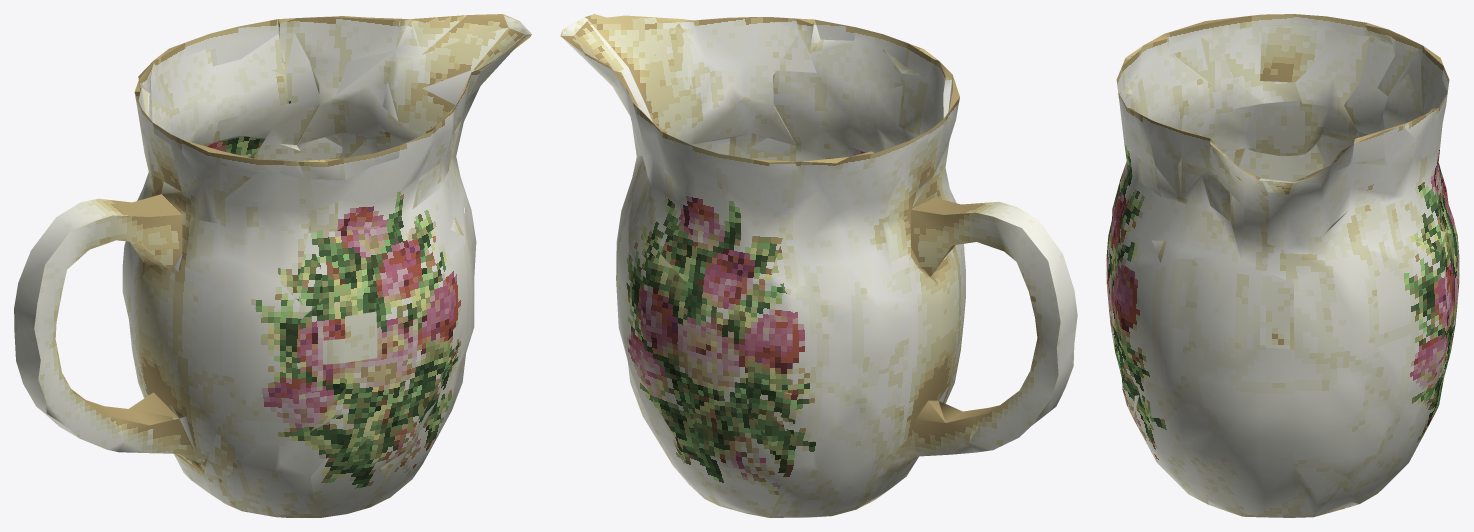
Rendered from jug_01.glb.
The picture shows the model from 3 angles, left to right: view 1: azimuth 30°, elevation 25°; view 2: azimuth 150°, elevation 25°; view 3: azimuth 270°, elevation 25°; orthographic projection.
Parts seen in each view (by area): view 1: body; view 2: body; view 3: body.
Part boxes in pixels (<box>): body: <box>14,14,531,517</box>; body: <box>560,14,1077,517</box>; body: <box>1106,14,1459,517</box>.
Size of the model in its own units: 0.2779 by 0.2113 by 0.1666.
1 material, 1 textured.
